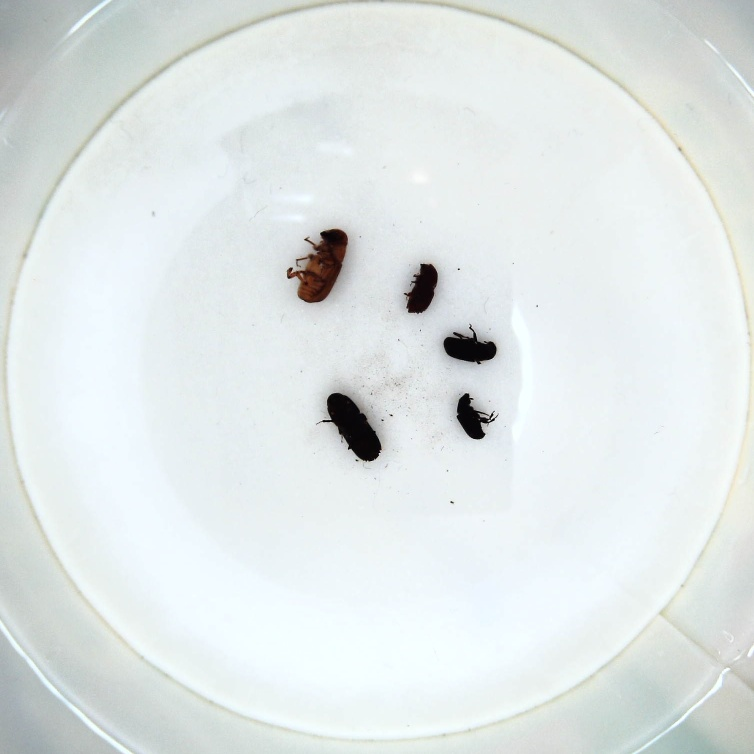armandi: (441, 323, 498, 367)
boerner: (316, 390, 386, 466)
coleoptera: (455, 391, 498, 443)
leconte: (284, 226, 349, 305)
linnaeus: (404, 259, 442, 317)
